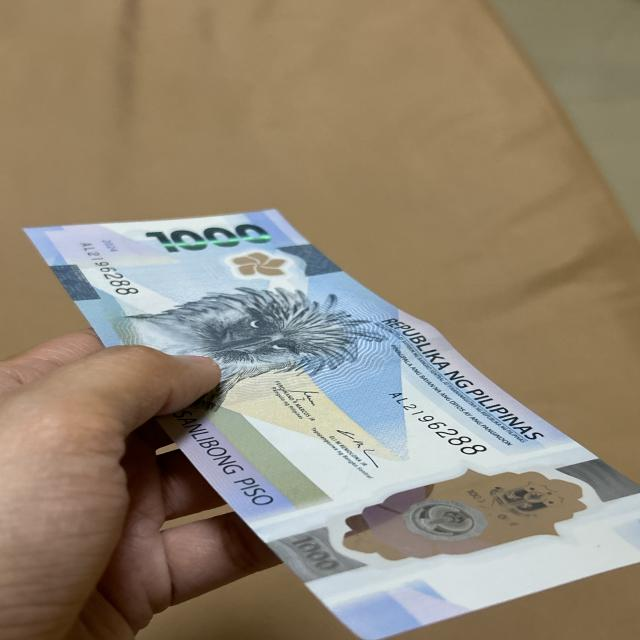clear_window: (326, 466, 608, 576)
eagle: (138, 282, 374, 383)
sampaguita: (221, 252, 301, 278)
